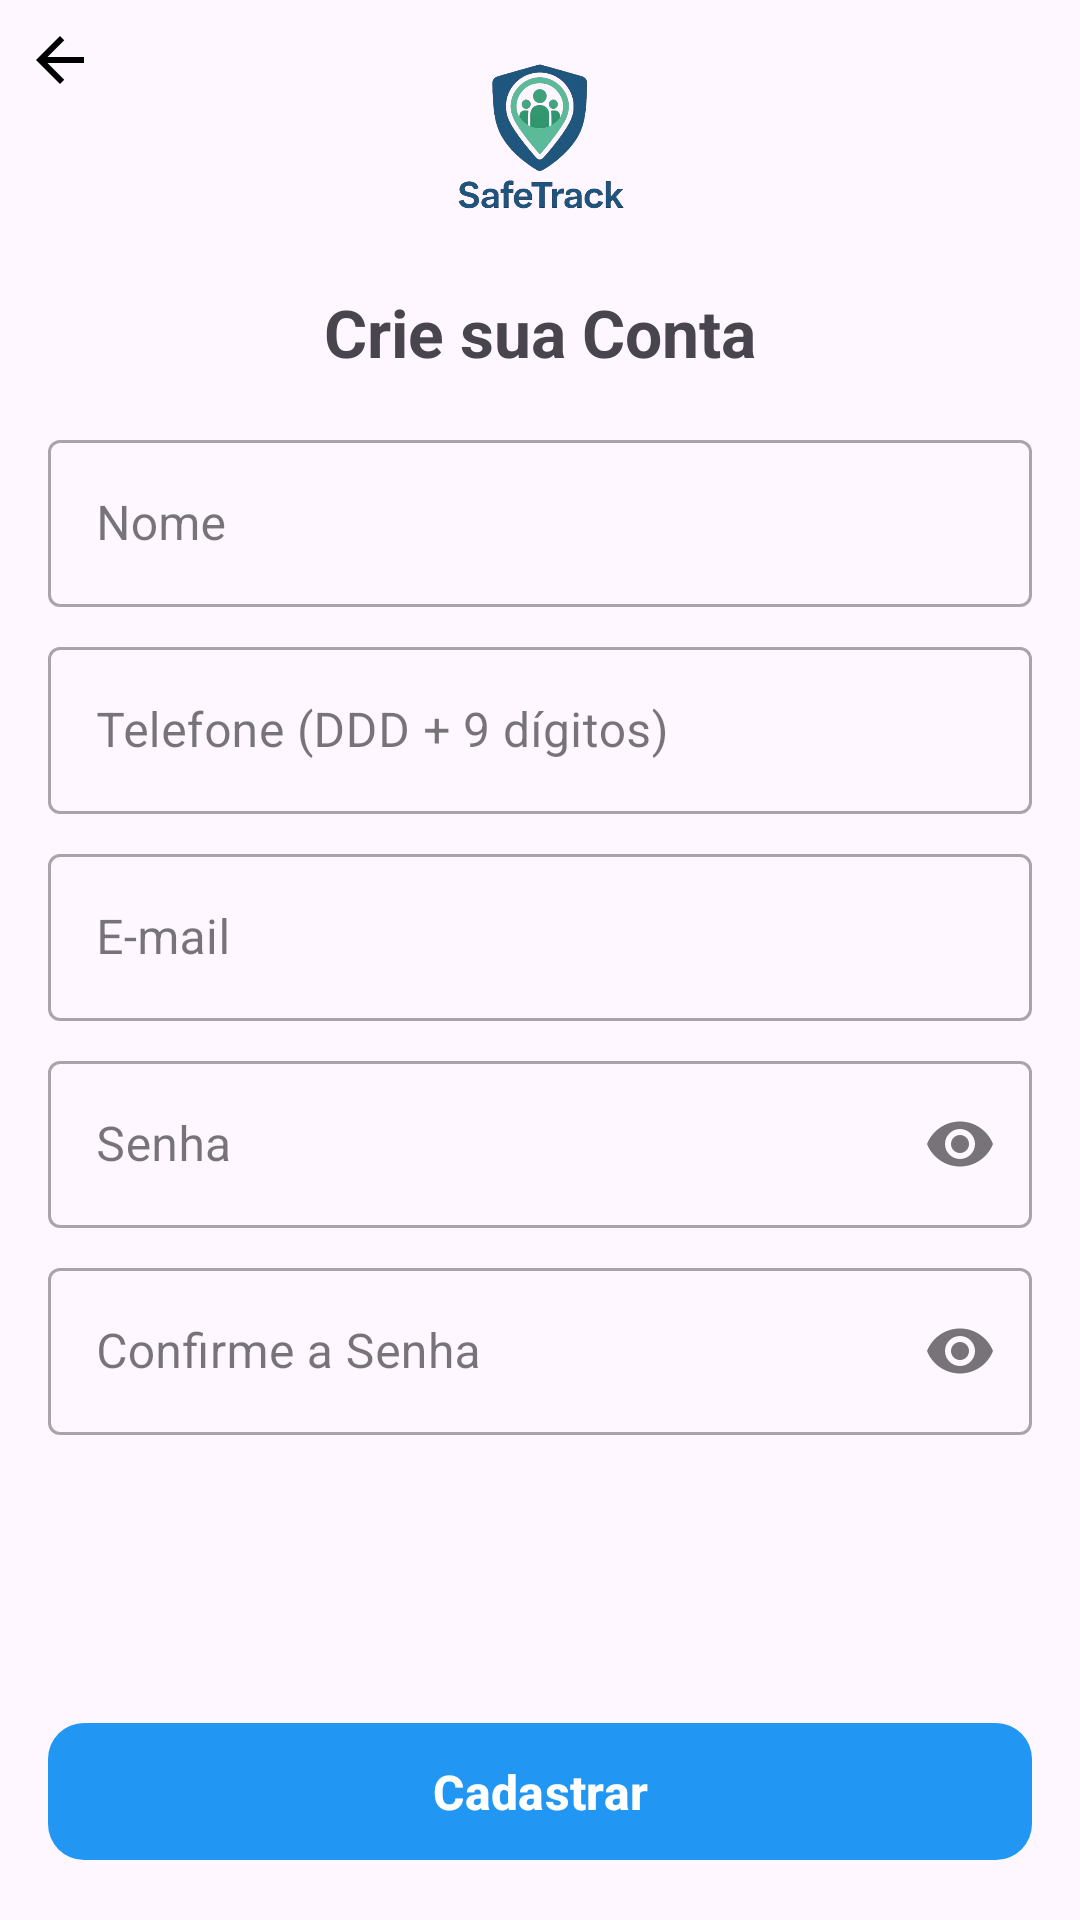

Icons on this 1080*1920 Android screen, each with its box as (x1, y1, x2, y2):
Voltar: (36, 36, 84, 84)
